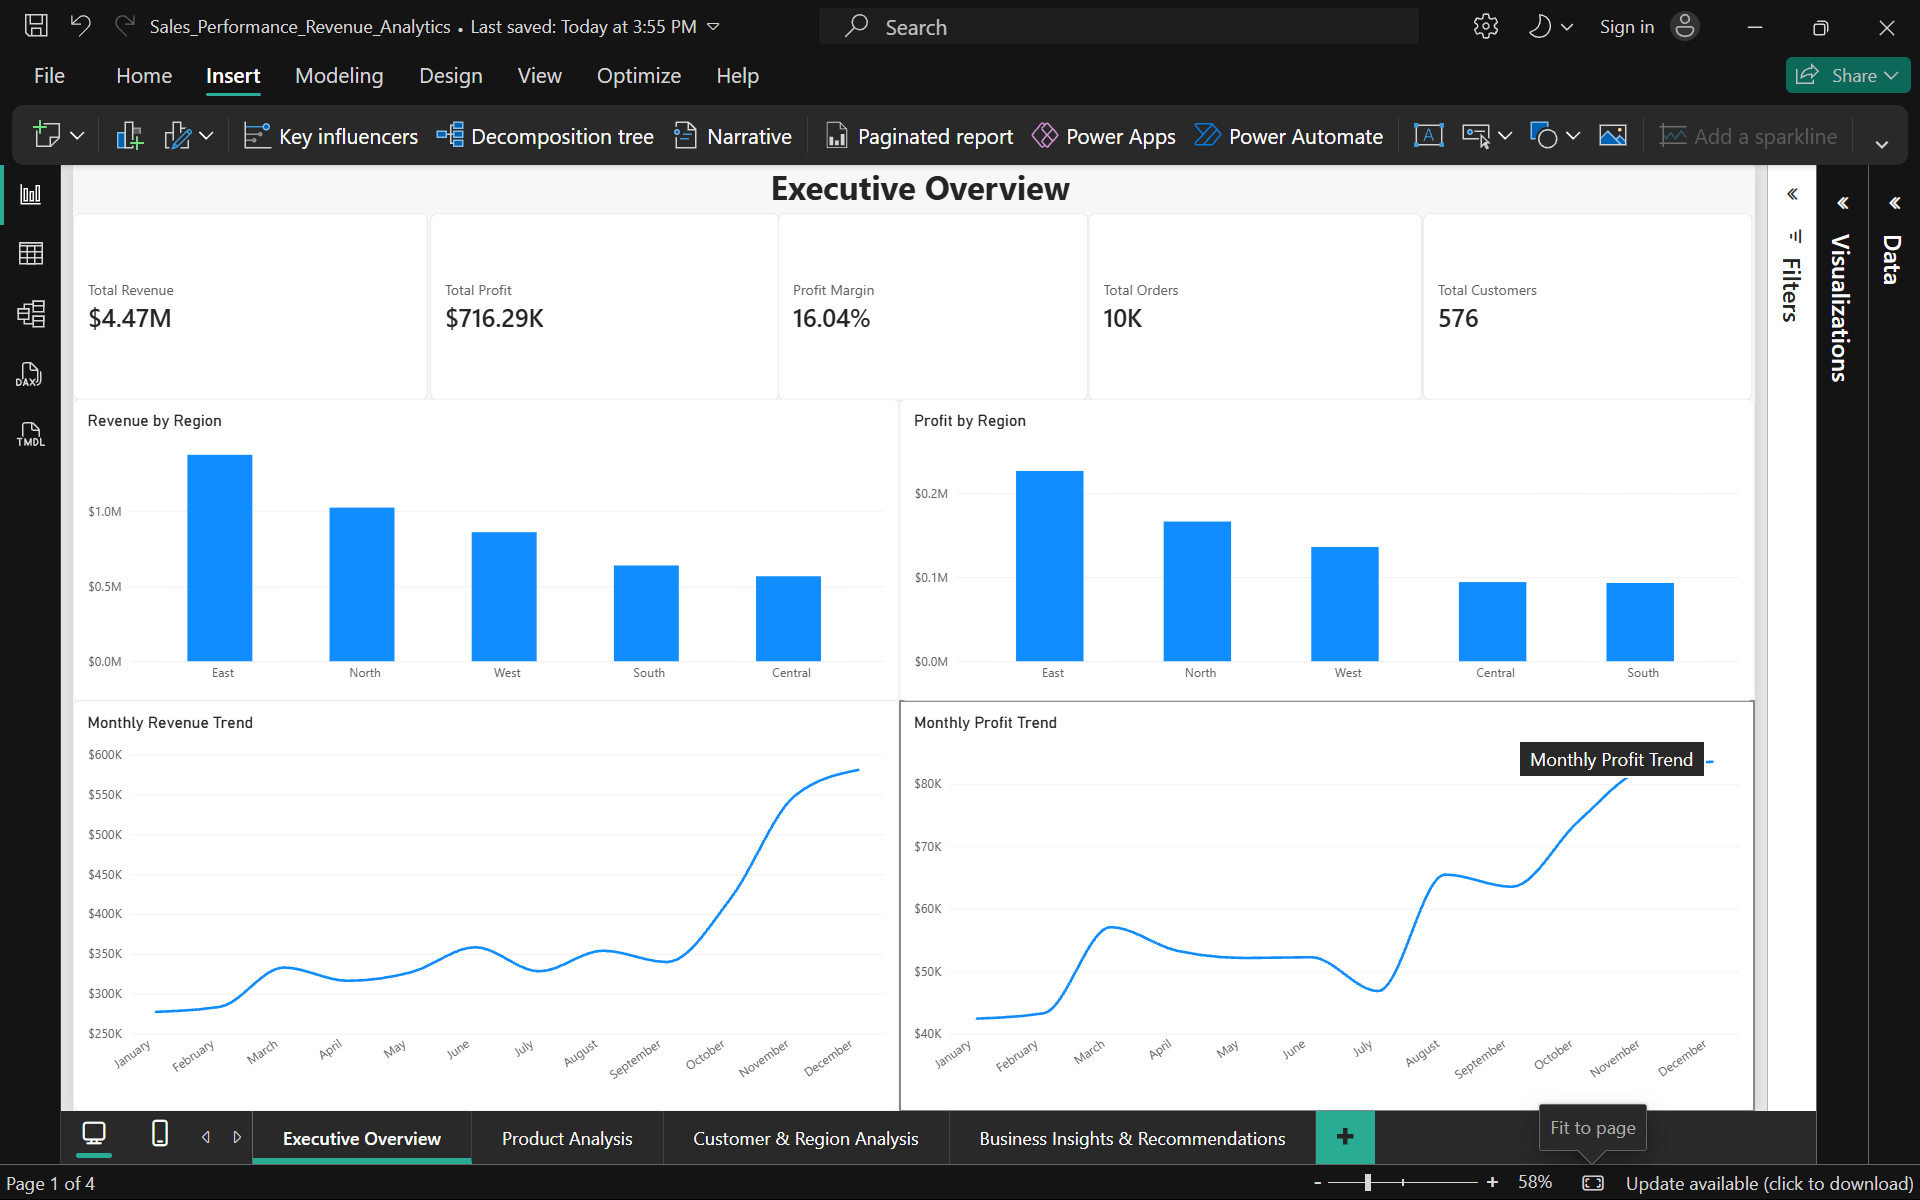

The page's visual inventory and layout, read from the dashboard file:
{"tool":"powerbi","page":{"name":"Executive Overview","canvas":[1920,1080],"ordinal":0},"visuals":[{"type":"cardVisual","fields":{"Data":["sales_data.Total Revenue","sales_data.Total Revenue"]},"box":[0,54.8,405.9,214.1],"z":0},{"type":"cardVisual","fields":{"Data":["sales_data.Total Profit"]},"box":[407.6,54.8,399,214.1],"z":1000},{"type":"cardVisual","fields":{"Data":["sales_data.Profit Margin"]},"box":[804.9,54.8,354.5,214.1],"z":2000},{"type":"cardVisual","fields":{"Data":["sales_data.Total Orders"]},"box":[1159.4,54.8,381.9,214.1],"z":3000},{"type":"cardVisual","fields":{"Data":["sales_data.Total Customers"]},"box":[1541.3,54.8,376.8,214.1],"z":4000},{"type":"lineChart","title":"Monthly Revenue Trend","fields":{"Category":["sales_data.Order Date.Variation.Date Hierarchy.Month"],"Y":["sales_data.Total Revenue"]},"box":[0,612,943.2,468.7],"z":5000},{"type":"lineChart","title":"Monthly Profit Trend","fields":{"Category":["sales_data.Order Date.Variation.Date Hierarchy.Month"],"Y":["sales_data.Total Profit"]},"box":[943.2,612,976.1,468.7],"z":6000},{"type":"clusteredColumnChart","title":"Revenue by Region","fields":{"Category":["sales_data.Region"],"Y":["sales_data.Total Revenue"]},"box":[0,267.3,943.2,344.7],"z":7000},{"type":"clusteredColumnChart","title":"Profit by Region","fields":{"Category":["sales_data.Region"],"Y":["sales_data.Total Profit"]},"box":[943.2,267.3,976.1,344.7],"z":8000},{"type":"textbox","box":[796.3,0,371.6,54.8],"z":9000}]}

Visuals, with their boxes on the page's 1920x1080 design canvas (x1, y1, x2, y2). These are canvas units, not pixel positions in the 1920x1200 screenshot, which may show the page scaled, cropped or inside an application window:
cardVisual - sales_data.Total Revenue x sales_data.Total Revenue: [0, 55, 406, 269]
cardVisual - sales_data.Total Profit: [408, 55, 807, 269]
cardVisual - sales_data.Profit Margin: [805, 55, 1159, 269]
cardVisual - sales_data.Total Orders: [1159, 55, 1541, 269]
cardVisual - sales_data.Total Customers: [1541, 55, 1918, 269]
"Monthly Revenue Trend" lineChart: [0, 612, 943, 1081]
"Monthly Profit Trend" lineChart: [943, 612, 1919, 1081]
"Revenue by Region" clusteredColumnChart: [0, 267, 943, 612]
"Profit by Region" clusteredColumnChart: [943, 267, 1919, 612]
textbox: [796, 0, 1168, 55]
